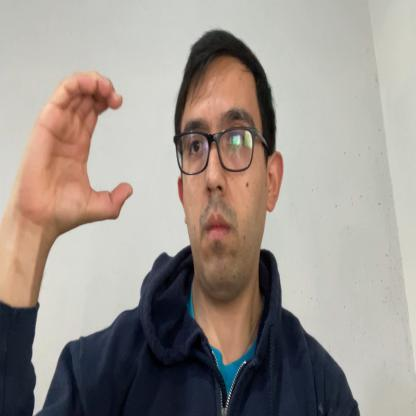C: (31, 68, 134, 230)
